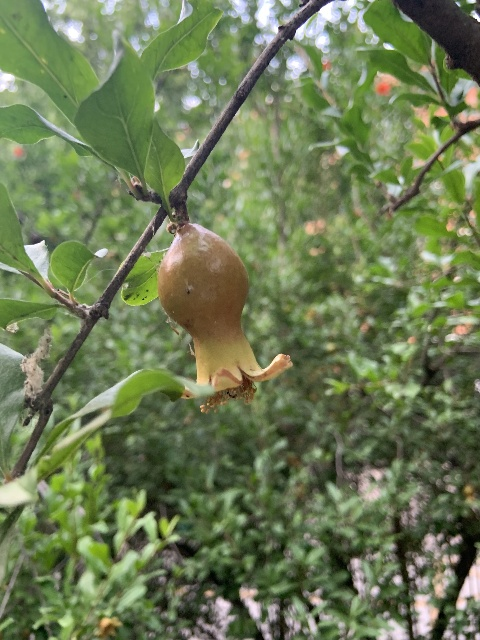early-fruit: (157, 223, 292, 413)
